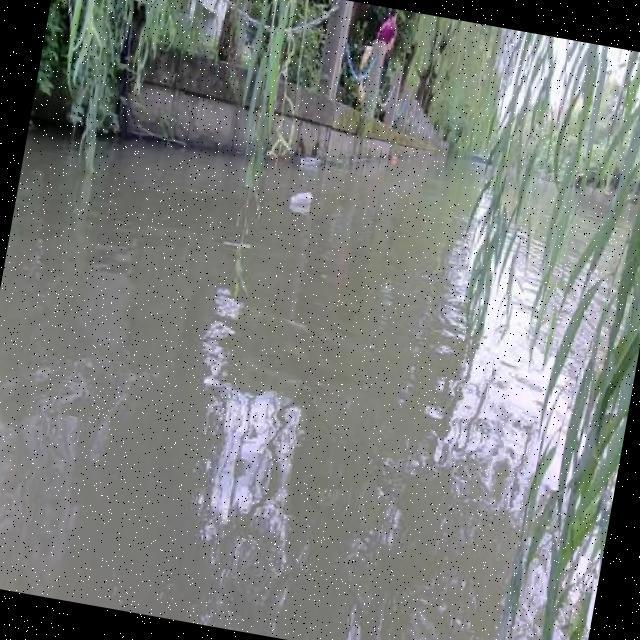Bottle: (290, 152, 326, 174)
Waste: (286, 186, 316, 218)
